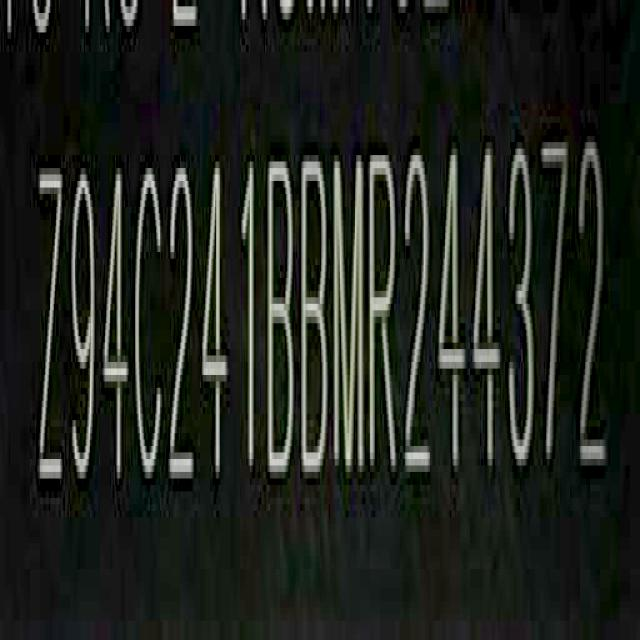1: (238, 146, 259, 503)
2: (573, 122, 608, 472), (402, 143, 434, 496), (167, 158, 198, 503)
3: (504, 144, 536, 474)
7: (540, 132, 571, 460)
9: (434, 148, 470, 484), (470, 136, 504, 482), (202, 168, 232, 522), (100, 150, 127, 508), (70, 177, 98, 489)
B: (298, 144, 332, 488), (266, 160, 298, 496)
C: (132, 168, 167, 496)
M: (331, 156, 367, 481)
R: (367, 155, 400, 490)
Z: (36, 162, 66, 508)
